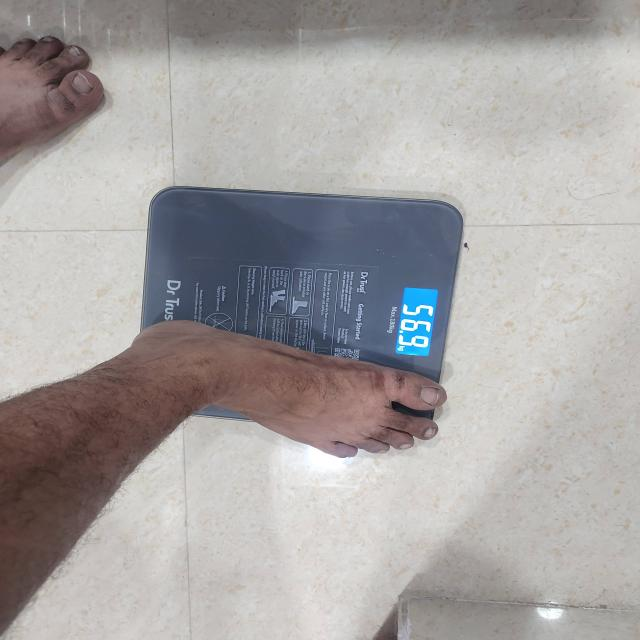ws: (140, 187, 465, 385)
